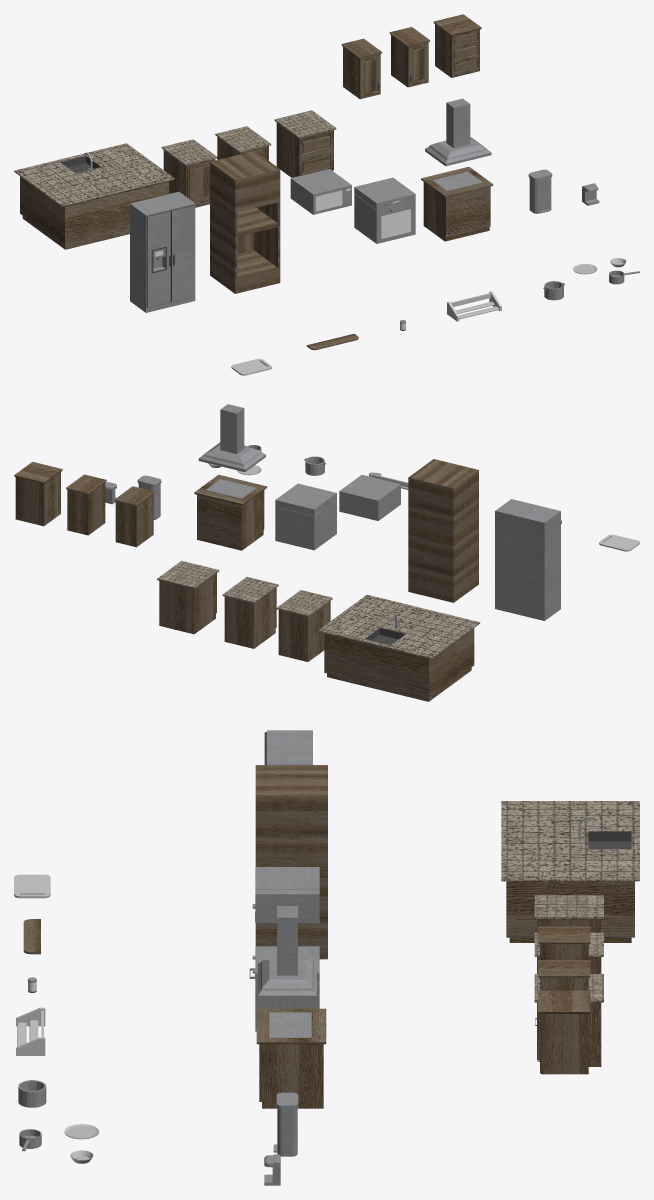
Rendered from KitchenPack.fbx.
3 views of the same model, one above another, from view 1: azimuth 30°, elevation 25°; view 2: azimuth 150°, elevation 25°; view 3: azimuth 270°, elevation 25° (orthographic). The views are drawn at different scales.
Parts seen in each view (by area): view 1: Island, Frame_Microwave_Oven, Refrigerator, Stove, Oven, Lower_Drawer, Lower_Cabinet_L, Upper_Drawer, Range_Hood, Microwave, Upper_Cabinet_L, Upper_Cabinet_R (+3 smaller); view 2: Island, Frame_Microwave_Oven, Refrigerator, Stove, Lower_Drawer, Oven, Lower_Cabinet_R, Lower_Cabinet_L, Upper_Drawer, Range_Hood, Microwave, Upper_Cabinet_R (+3 smaller); view 3: Island, Frame_Microwave_Oven, Stove, Upper_Drawer, Range_Hood, Microwave, Lower_Cabinet_L, Upper_Cabinet_L, Refrigerator, Oven, Lower_Drawer, Upper_Cabinet_R (+5 smaller).
Boxes of the visible parts, <box> form: Island: <box>14,143,174,249</box>; Frame_Microwave_Oven: <box>210,151,280,293</box>; Refrigerator: <box>130,191,195,312</box>; Stove: <box>421,166,493,241</box>; Oven: <box>354,177,415,243</box>; Lower_Drawer: <box>274,110,336,177</box>; Lower_Cabinet_L: <box>161,139,217,207</box>; Upper_Drawer: <box>433,14,481,77</box>; Range_Hood: <box>425,98,491,166</box>; Microwave: <box>290,169,351,214</box>; Upper_Cabinet_L: <box>341,38,382,99</box>; Upper_Cabinet_R: <box>389,27,430,87</box>; Island: <box>318,594,480,701</box>; Frame_Microwave_Oven: <box>408,459,478,602</box>; Refrigerator: <box>495,499,560,620</box>; Stove: <box>194,474,267,550</box>; Lower_Drawer: <box>157,561,219,634</box>; Oven: <box>275,483,336,550</box>; Lower_Cabinet_R: <box>222,577,278,648</box>; Lower_Cabinet_L: <box>276,590,332,661</box>; Upper_Drawer: <box>14,462,62,526</box>; Range_Hood: <box>198,404,265,471</box>; Microwave: <box>339,475,400,520</box>; Upper_Cabinet_R: <box>66,474,106,535</box>; Island: <box>501,801,639,942</box>; Frame_Microwave_Oven: <box>255,765,327,959</box>; Stove: <box>256,1008,326,1108</box>; Upper_Drawer: <box>538,990,590,1074</box>; Range_Hood: <box>257,906,316,999</box>; Microwave: <box>252,867,319,923</box>; Lower_Cabinet_L: <box>534,895,603,932</box>; Upper_Cabinet_L: <box>537,926,590,993</box>; Refrigerator: <box>264,730,312,764</box>; Oven: <box>249,946,319,1031</box>; Lower_Drawer: <box>534,974,603,1066</box>; Upper_Cabinet_R: <box>537,960,590,1016</box>.
Size of what is drawn, in the model's own units: 2922 by 803 by 2437.
